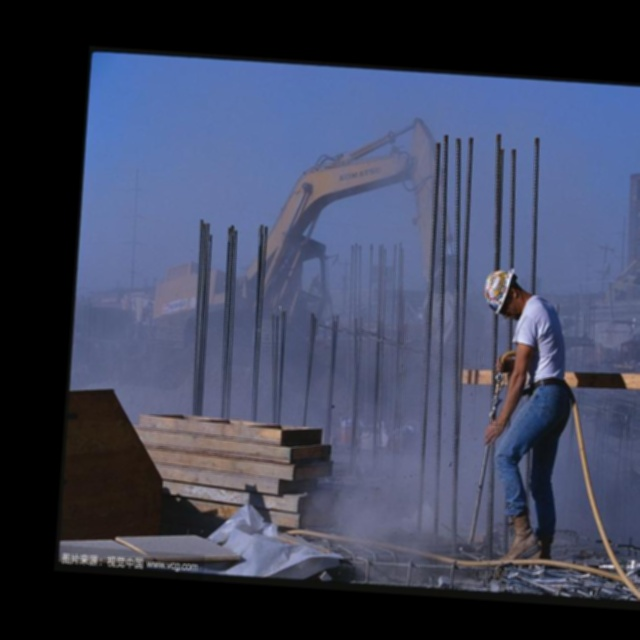Con_Casco: (483, 267, 520, 320)
